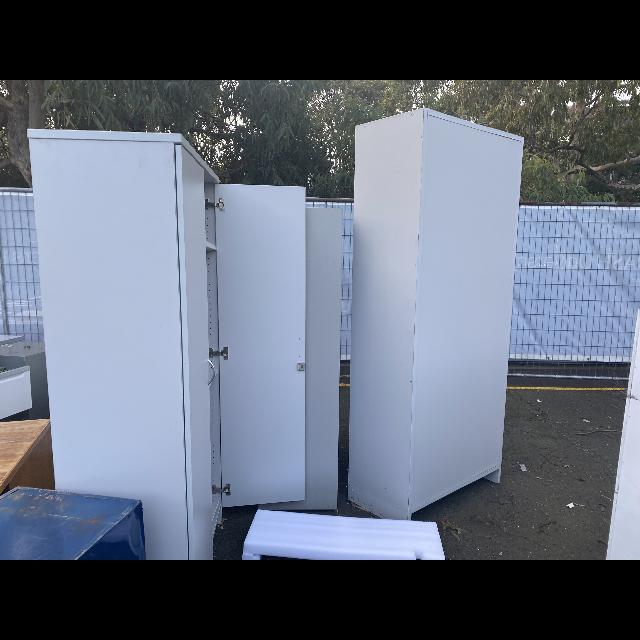Aluminium: (606, 309, 640, 560)
Ferrous Metal: (0, 487, 146, 560), (0, 341, 49, 419), (0, 365, 32, 420), (0, 334, 25, 346), (209, 347, 228, 360), (211, 485, 228, 493), (216, 198, 225, 212), (205, 199, 214, 209), (297, 362, 305, 371)
